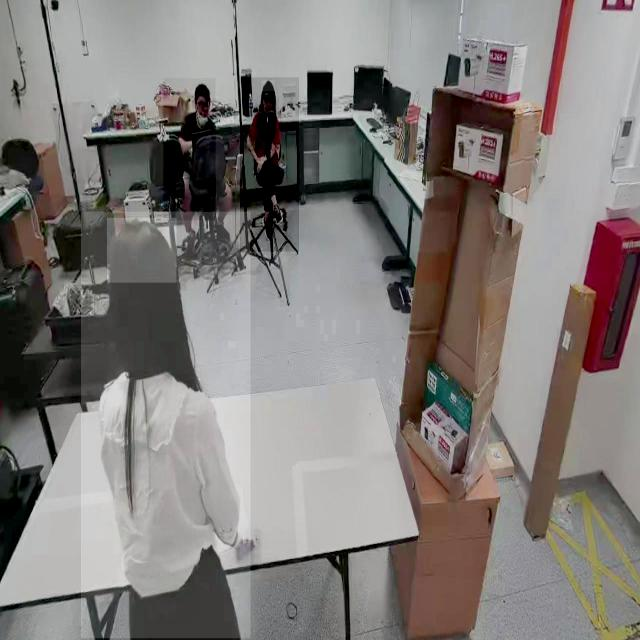face_nomask: (196, 99, 208, 118), (262, 95, 272, 113)
hand_noglove: (255, 156, 265, 173), (255, 154, 265, 164)
head_nohelmet: (107, 218, 177, 282), (194, 83, 210, 96), (261, 80, 275, 92)
person: (81, 212, 251, 639), (240, 78, 300, 252), (164, 78, 216, 220)
shoes: (212, 213, 231, 247), (259, 213, 275, 240), (270, 200, 285, 228)
